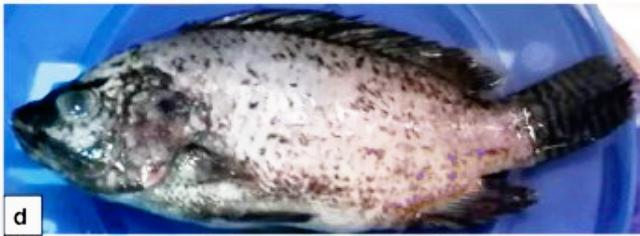Tilapia Lake Virus -TiLV-: (34, 9, 629, 224)
